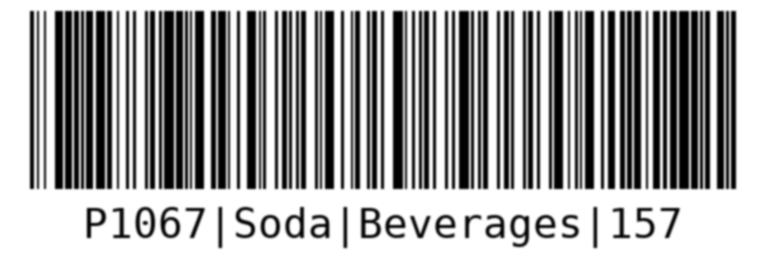milk: (20, 7, 747, 252)
